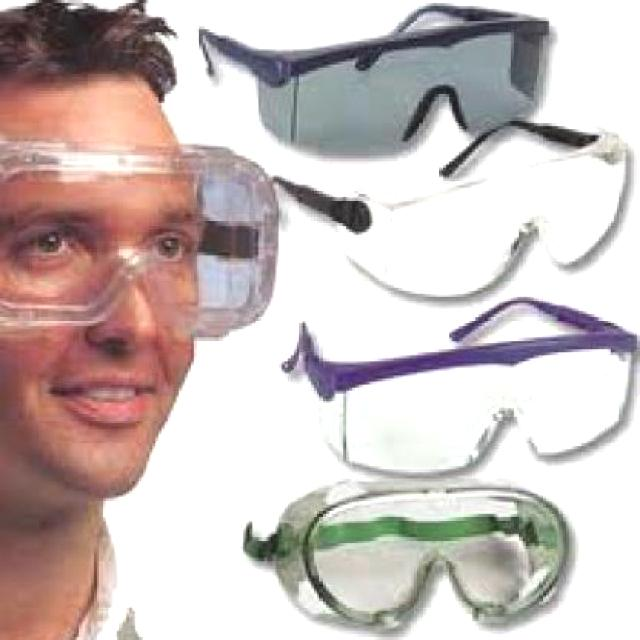face_nomask: (4, 208, 211, 440)
glasses: (238, 470, 578, 635), (2, 149, 280, 340), (334, 134, 635, 303), (303, 324, 640, 474), (262, 12, 560, 153)
head_nohelmet: (1, 0, 181, 120)
